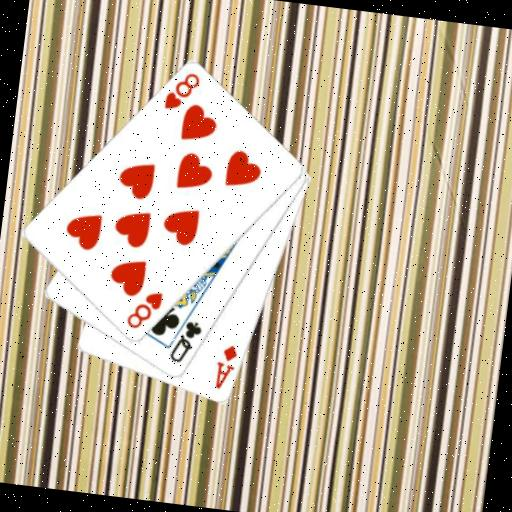8H: (122, 286, 165, 334), (160, 67, 203, 115)
AD: (212, 341, 241, 392)
QC: (166, 316, 205, 367)
